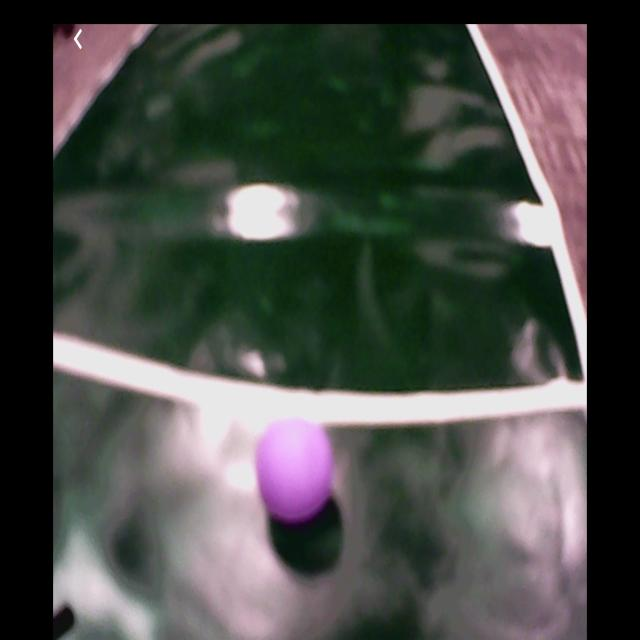ball: (254, 417, 336, 525)
